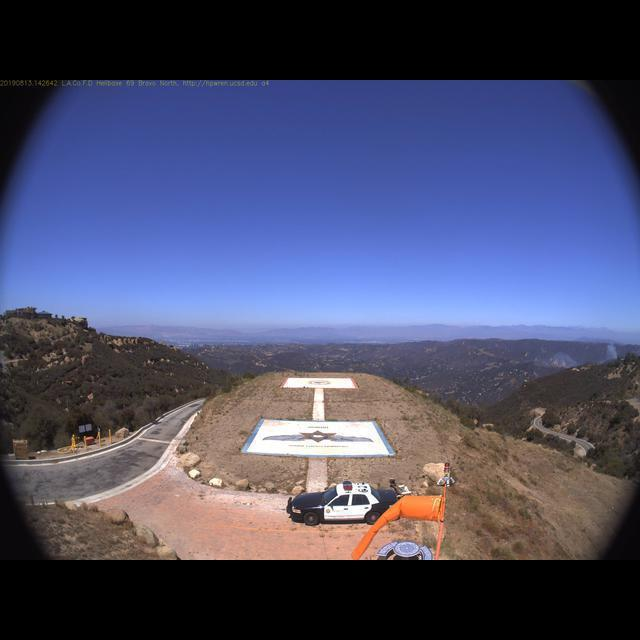Smoke: (545, 336, 622, 371)
